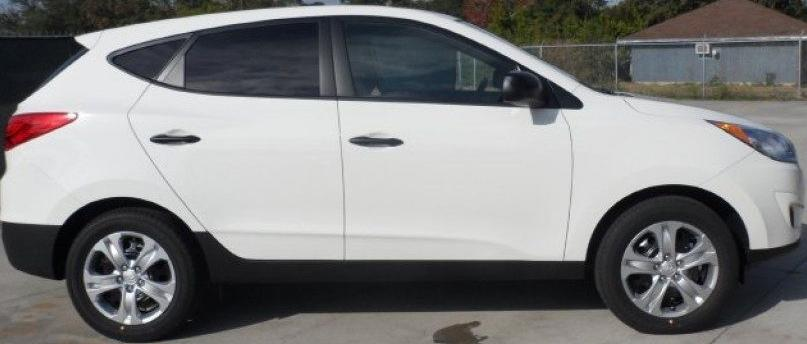backlight: (0, 108, 85, 162)
headlight: (699, 113, 804, 169)
side_glass: (105, 14, 586, 115)
